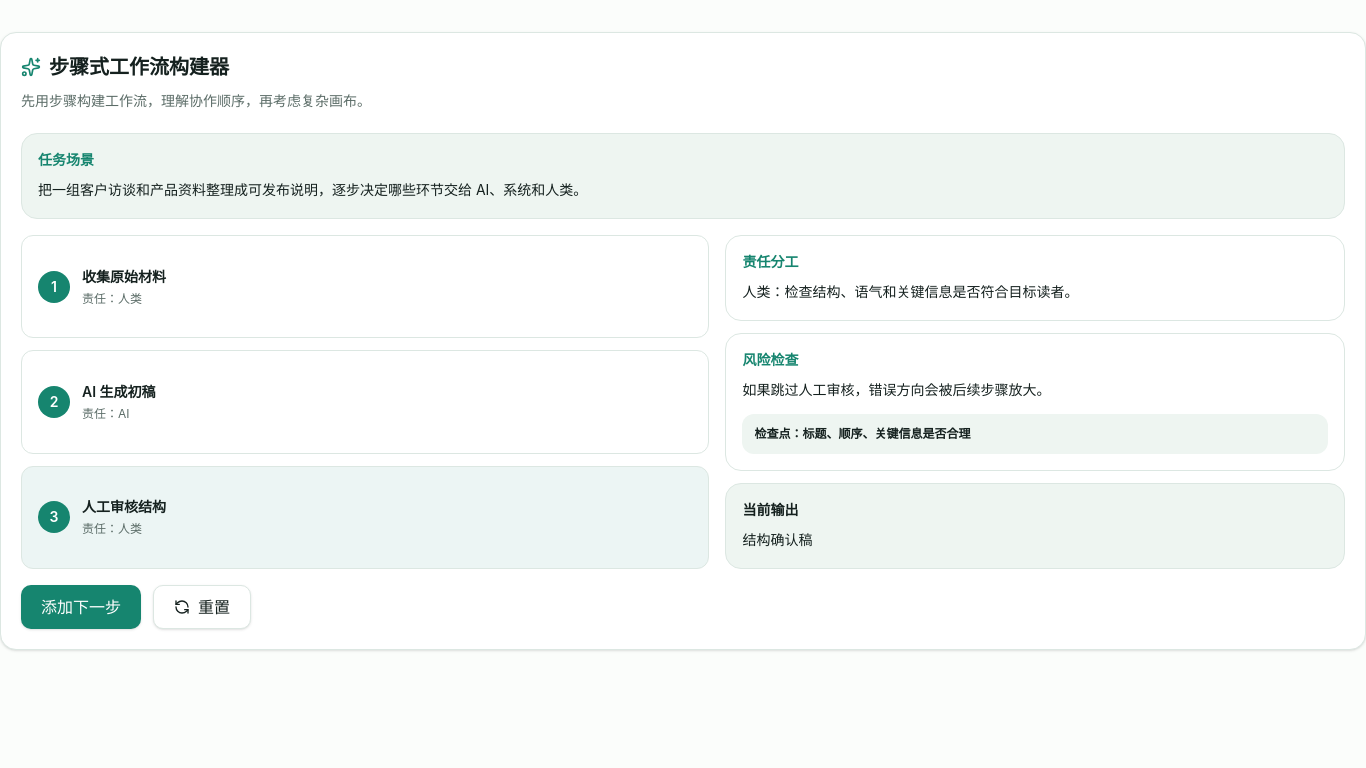
course client interactions › lets readers inspect workflow ownership, risk, and outputs as steps are added
The image size is (1366, 768).
Expected: the text "RAG 核对事实" is not shown
Click the button "添加下一步".
click(81, 607)  # box x1=21 y1=585 x2=141 y2=629
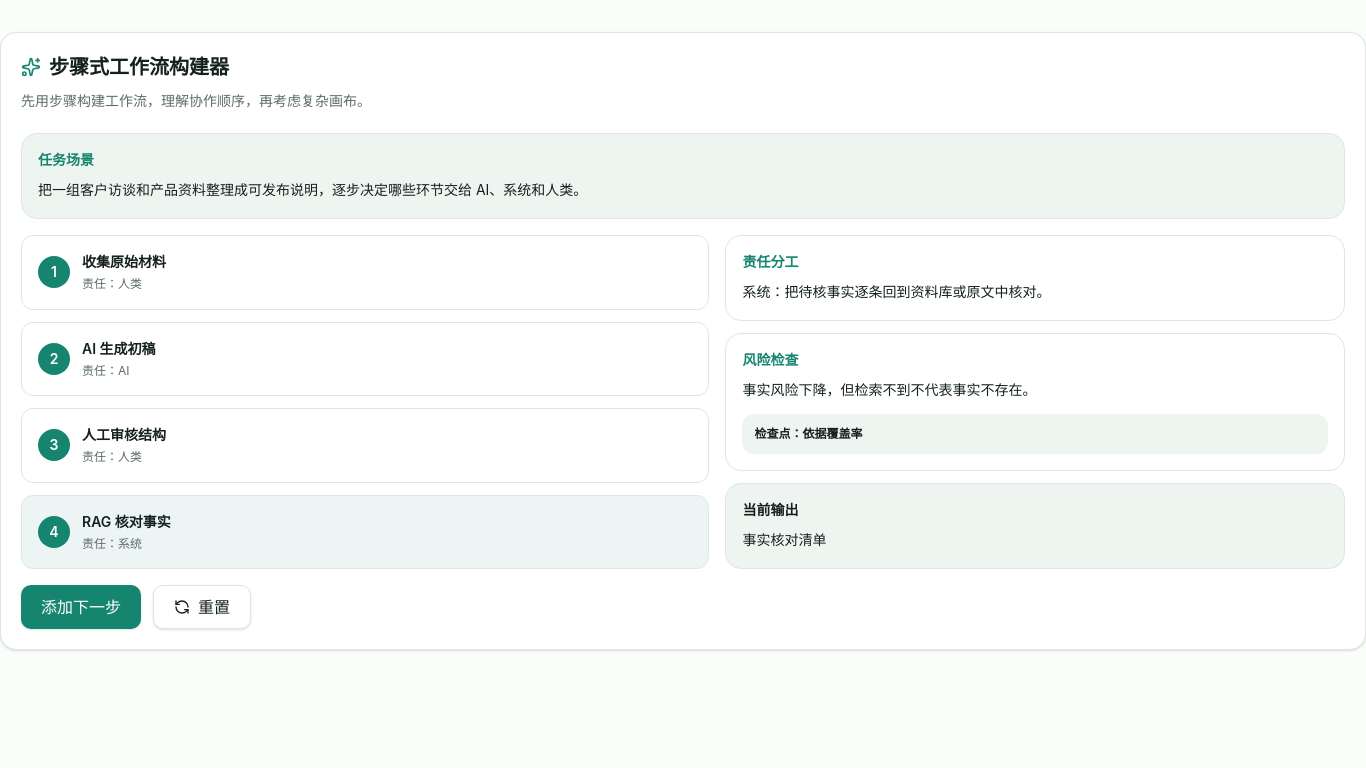
Expected: the text "RAG 核对事实" is shown, x1=82 y1=512 x2=171 y2=532
Expected: the text "依据覆盖率" is shown, x1=802 y1=426 x2=862 y2=441
Expected: the text "事实风险下降" is shown, x1=742 y1=381 x2=1036 y2=398
